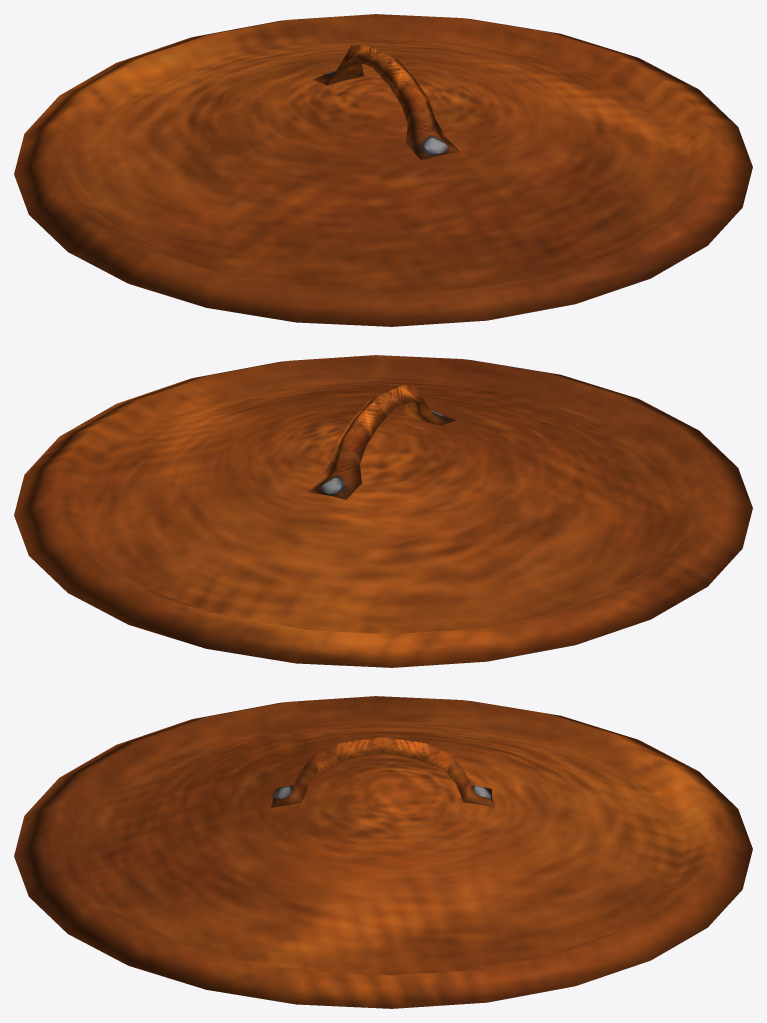
File: Lid_pot.fbx
3 renders of one model, top to bottom at view 1: azimuth 30°, elevation 25°; view 2: azimuth 150°, elevation 25°; view 3: azimuth 270°, elevation 25°, orthographic.
Parts seen in each view (by area): view 1: Lid_Pot_LOD0; view 2: Lid_Pot_LOD0; view 3: Lid_Pot_LOD0.
Boxes of the visible parts, bbox=[...] form: Lid_Pot_LOD0: bbox=[14, 14, 752, 326]; Lid_Pot_LOD0: bbox=[14, 355, 752, 667]; Lid_Pot_LOD0: bbox=[14, 696, 752, 1008].
Size of what is drawn, in the model's own units: 101 by 17.64 by 101.
